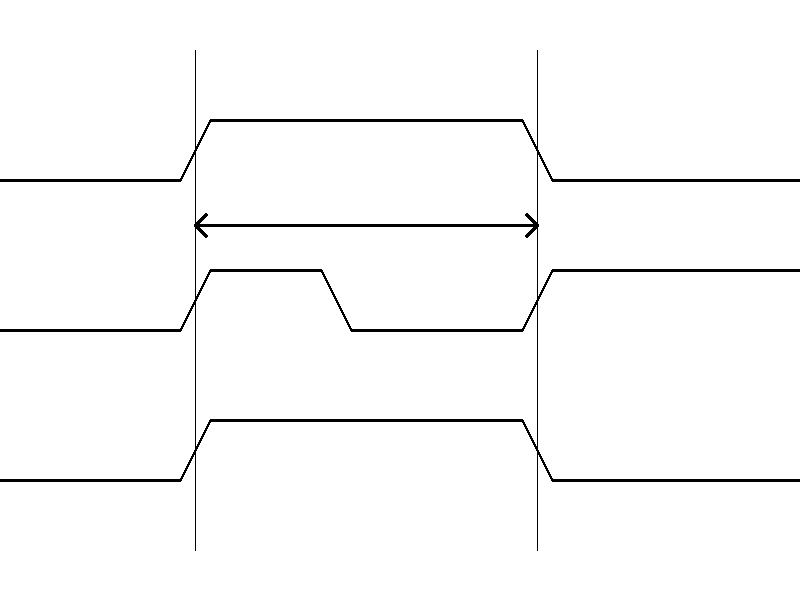double_arrow: (195, 210, 537, 240)
